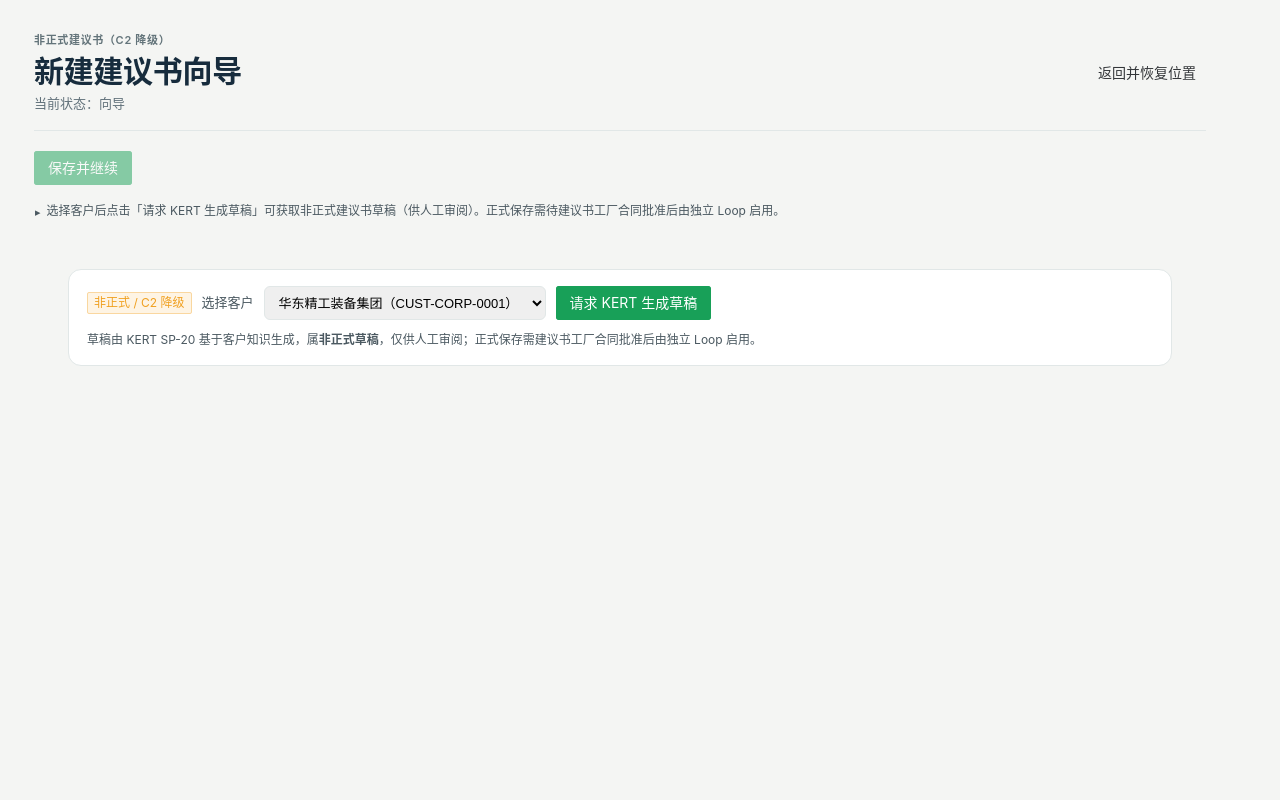
Test: P24 ProposalWizardView C2 degrade › enables 保存并继续 after draft is generated
Click the button with test id "p24-generate": (634, 303) [556,286,711,320]
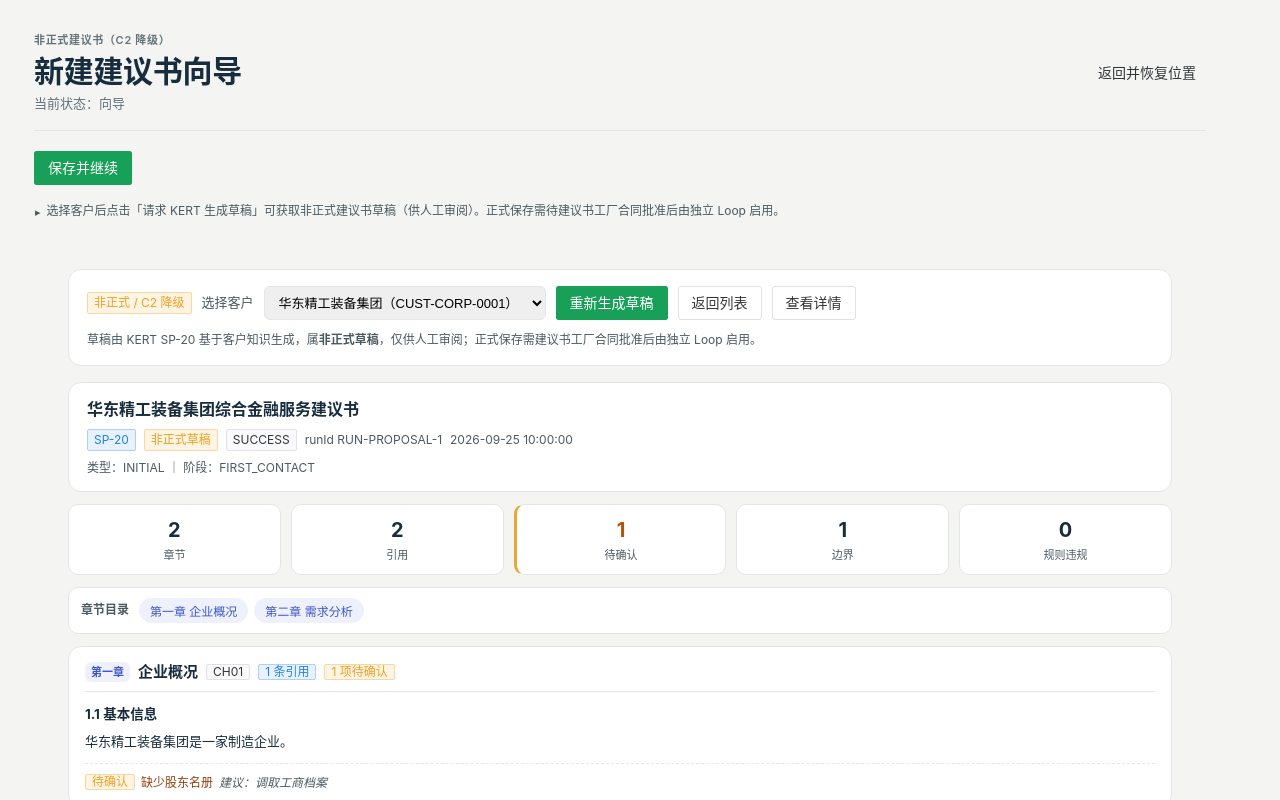
Check: the button with test id "gated-action" is enabled, box [34,150,132,184]
